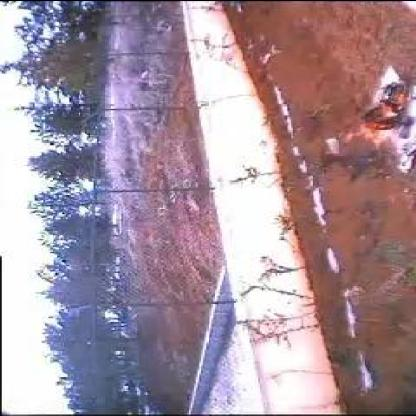-: (345, 146, 371, 162)
foggia-v2-map80-epoch100 - v1 4323: (361, 122, 391, 143)
